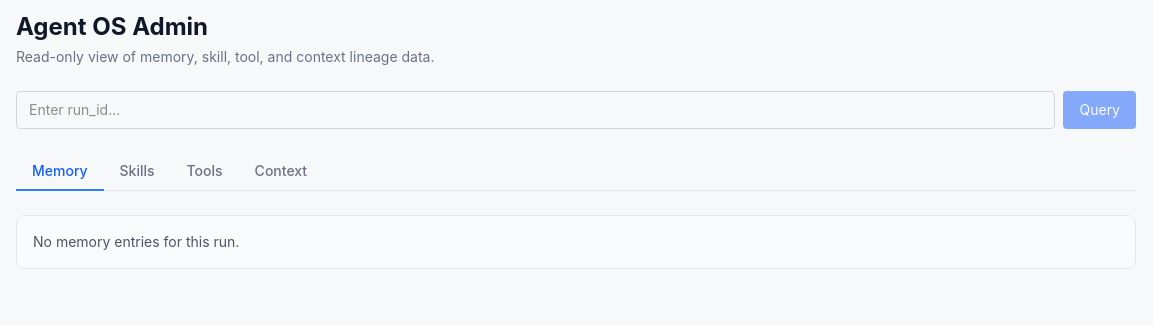
Test case: AdminAgosPage › shows authorization errors returned by every endpoint
Type "run-1" into the field named "Run ID".
click(536, 110); type("run-1")  # box [16,91,1056,129]
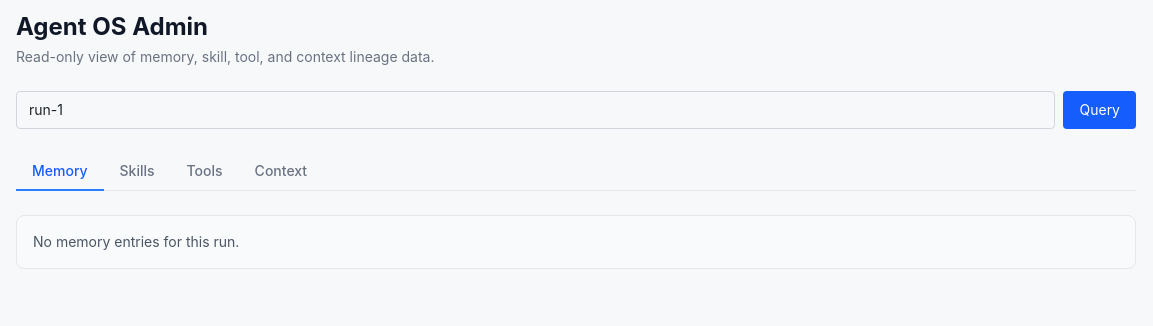
Click the button "Query".
click(1100, 110)  # box [1064,91,1136,129]
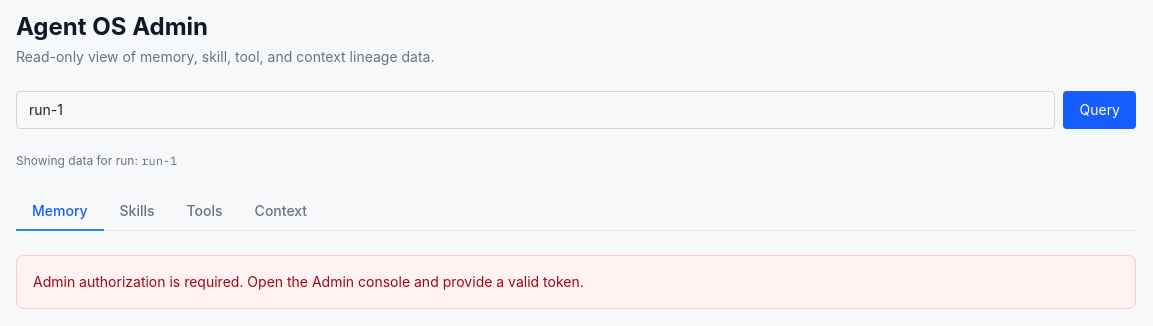
Expected: the text "Admin authorization is required" is shown, [33,273,584,290]
